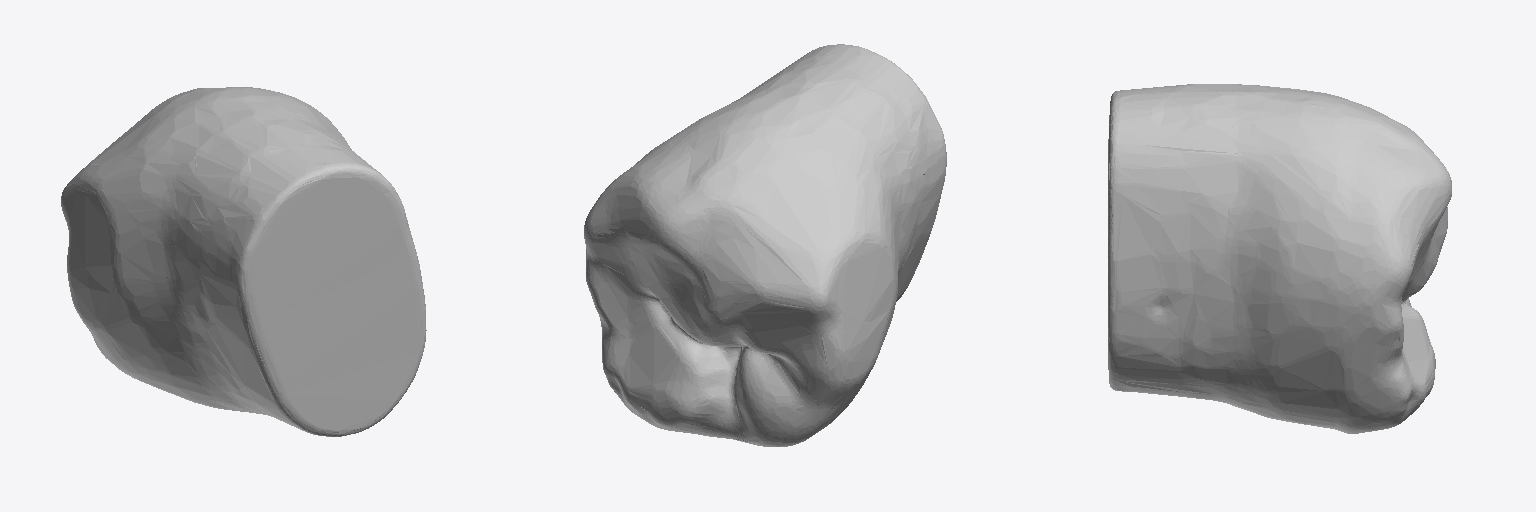
File: 4_downsized_adjusted_retriangulated.obj
3 views of the same model, side by side, from view 1: azimuth 30°, elevation 25°; view 2: azimuth 150°, elevation 25°; view 3: azimuth 270°, elevation 25° (orthographic).
Visible parts, largest first — view 1: P11A-C[number redacted]; view 2: P11A-C[number redacted]; view 3: P11A-C[number redacted].
Part boxes in pixels (bbox=[...]): P11A-C[number redacted]: bbox=[61, 87, 426, 436]; P11A-C[number redacted]: bbox=[584, 44, 946, 446]; P11A-C[number redacted]: bbox=[1108, 84, 1451, 433].
Bounding box in the file's own units: 2.29 × 2.53 × 2.55.